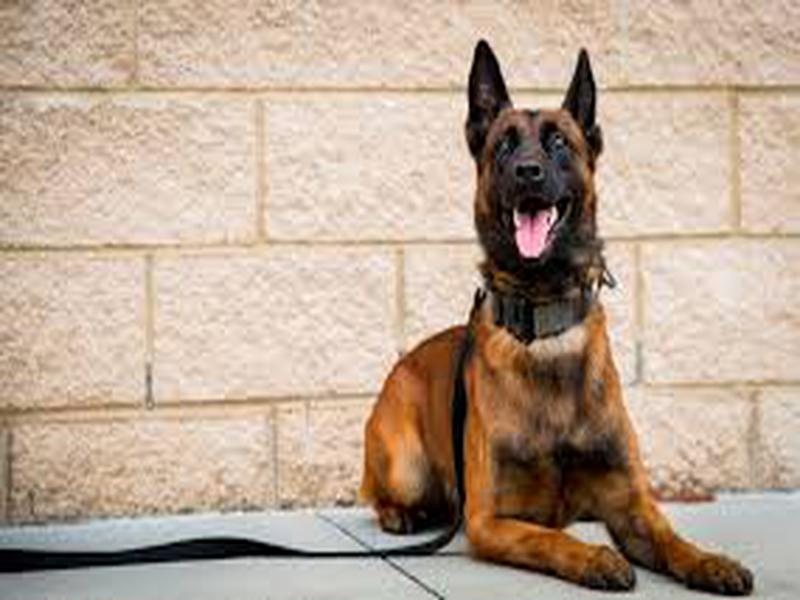dog_down: (362, 36, 756, 600)
